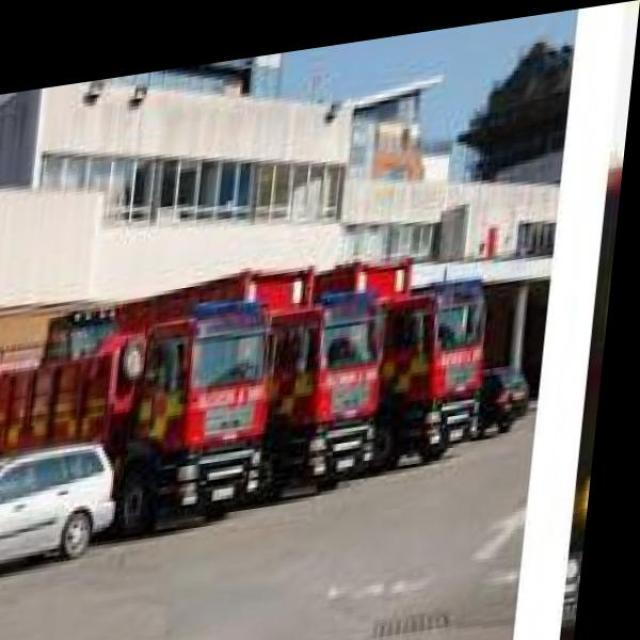emergency: (0, 298, 274, 540), (111, 268, 375, 502), (314, 256, 491, 474)
